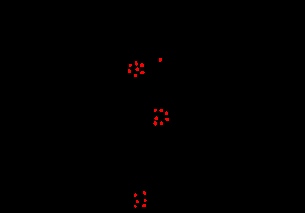Target: (153, 121, 157, 126), (140, 63, 144, 67), (135, 67, 139, 71), (154, 116, 158, 120), (135, 61, 138, 66), (140, 71, 145, 74), (159, 58, 162, 62), (128, 69, 131, 73), (159, 109, 163, 112), (165, 111, 168, 115), (165, 118, 169, 121), (160, 121, 163, 125), (143, 191, 146, 195), (134, 193, 137, 197), (142, 204, 146, 207), (129, 64, 132, 67), (134, 74, 137, 77), (154, 109, 157, 112), (144, 199, 147, 202), (136, 200, 139, 203), (134, 205, 137, 208)
